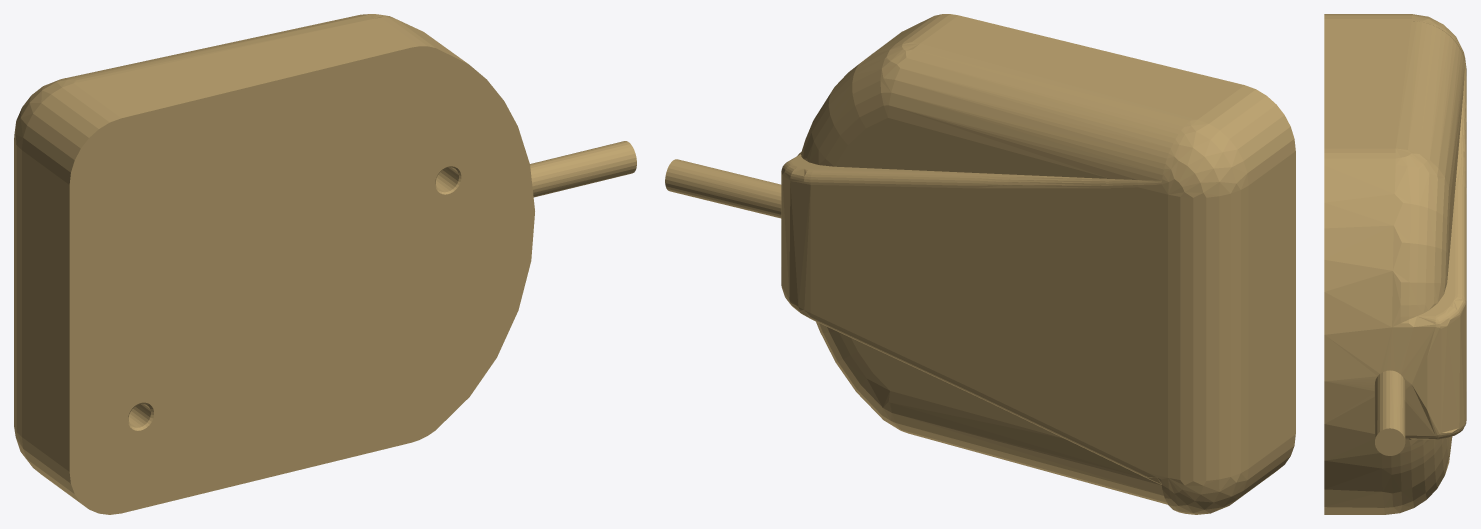
File: linx_gps.dae
3 renders of one model, left to right at view 1: azimuth 30°, elevation 25°; view 2: azimuth 150°, elevation 25°; view 3: azimuth 270°, elevation 25°, orthographic. The views are drawn at different scales.
Visible parts, largest first — view 1: gps; view 2: gps; view 3: gps.
Boxes of the visible parts, x1,y1,x2,y2 form: gps: [14, 14, 636, 514]; gps: [665, 14, 1295, 514]; gps: [1324, 14, 1466, 514].
Bounding box in the file's own units: 0.0575 × 0.013 × 0.0365.
